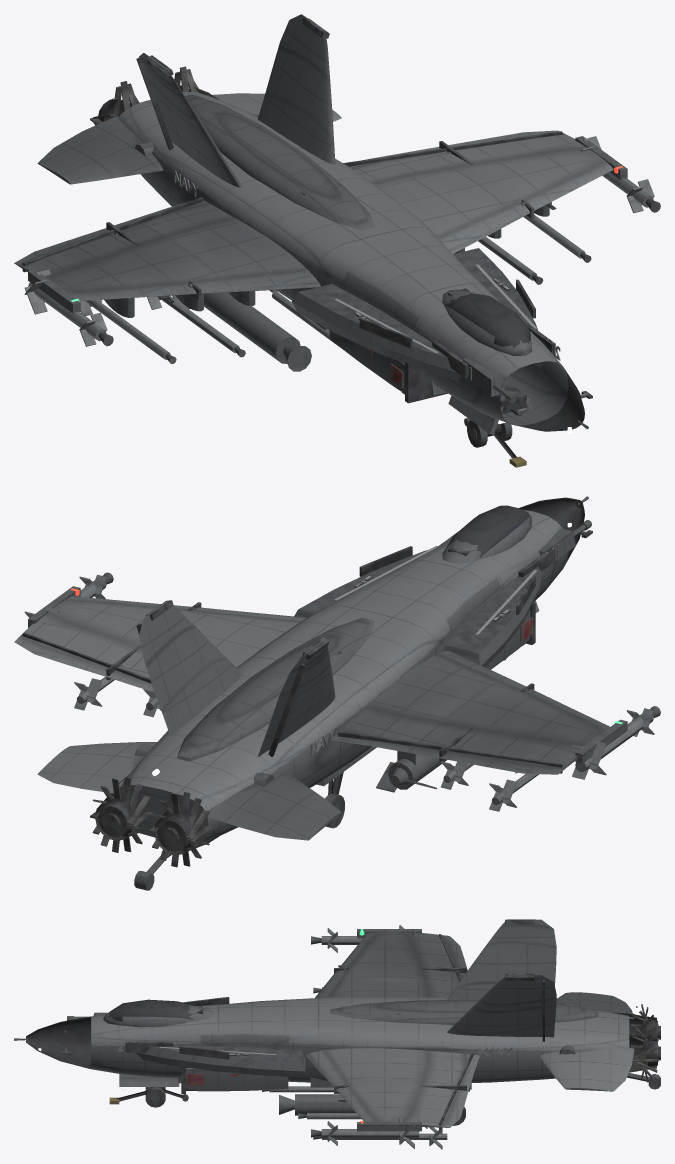
The model's file is aircraft_fa18.glb.
3 views of the same model, one above another, from view 1: azimuth 30°, elevation 25°; view 2: azimuth 150°, elevation 25°; view 3: azimuth 270°, elevation 25° (orthographic). The views are drawn at different scales.
Visible parts, largest first — view 1: fa18_body, fa18_detail, gear; view 2: fa18_body, fa18_detail, gear; view 3: fa18_body, fa18_detail, gear.
Part boxes in pixels (x1,y1,x2,y2): fa18_body: (14,14,660,431); fa18_detail: (22,18,654,433); gear: (448,395,533,467); fa18_body: (14,497,660,890); fa18_detail: (22,496,654,867); gear: (325,600,539,828); fa18_body: (26,919,660,1139); fa18_detail: (14,919,660,1149); gear: (109,1074,469,1125).
Bounding box in the file's own units: 13.9 × 5.15 × 18.87.
14 materials, 14 textured.
